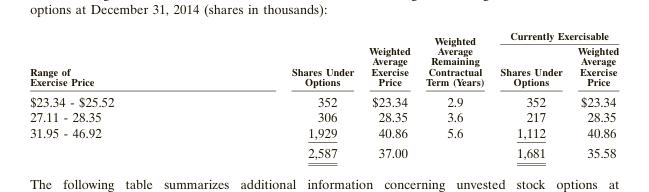table: (29, 28, 618, 160)
table column: (29, 28, 202, 160), (202, 28, 360, 160), (491, 28, 569, 160), (417, 28, 491, 160), (360, 28, 417, 160), (569, 28, 618, 160)
table column header: (29, 28, 618, 90)
table row: (29, 42, 618, 90), (29, 90, 618, 108), (29, 124, 618, 142), (29, 142, 618, 160), (29, 108, 618, 124), (29, 28, 618, 42)
table spanning cell: (29, 28, 202, 90), (202, 28, 360, 90), (417, 28, 491, 90), (360, 28, 417, 90), (491, 28, 618, 42)
